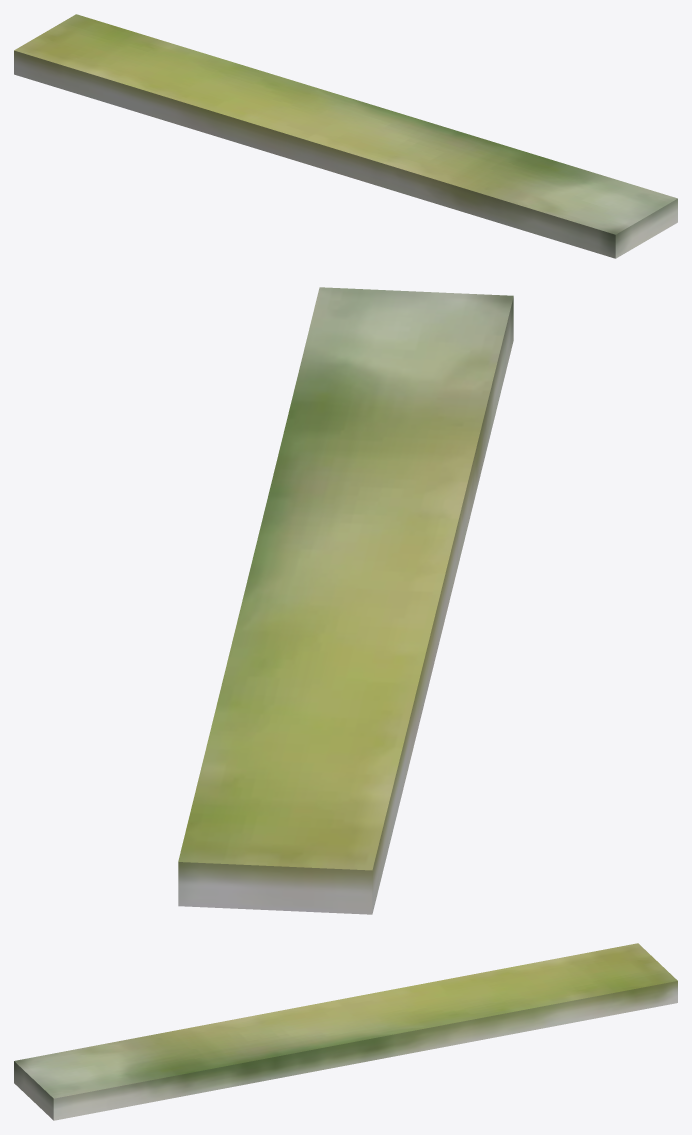
Rendered from frame__gauge_needle.glb.
3 renders of one model, top to bottom at view 1: azimuth 30°, elevation 25°; view 2: azimuth 150°, elevation 25°; view 3: azimuth 270°, elevation 25°, orthographic. The views are drawn at different scales.
Parts seen in each view (by area): view 1: geometry_0; view 2: geometry_0; view 3: geometry_0.
Part boxes in pixels (<box>): geometry_0: <box>14,14,677,258</box>; geometry_0: <box>178,287,513,914</box>; geometry_0: <box>14,943,677,1120</box>.
Size of the model in its own units: 0.0301 by 0.002 by 0.0544.
1 material, 1 textured.
